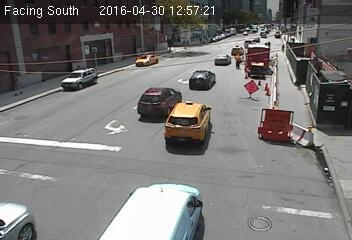neg: (257, 100, 286, 139), (37, 157, 66, 196), (101, 108, 121, 134), (8, 111, 24, 133), (65, 66, 79, 85), (164, 72, 178, 91), (315, 11, 329, 29), (325, 56, 337, 71), (90, 11, 102, 26), (223, 16, 233, 30), (184, 98, 192, 108), (221, 98, 228, 107), (139, 43, 146, 52)
pos: (8, 74, 25, 96), (233, 51, 247, 70), (279, 41, 288, 52), (185, 37, 193, 48), (182, 37, 188, 46), (198, 36, 204, 44), (283, 34, 287, 40)
